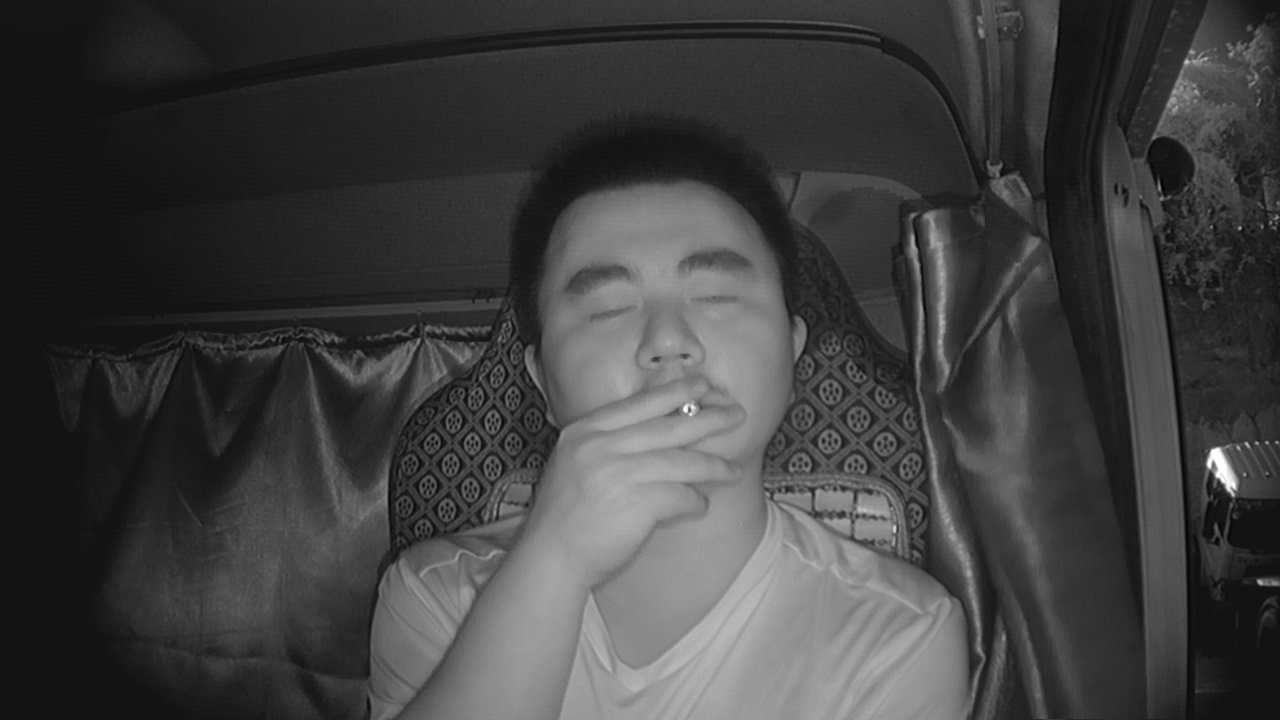hand: (544, 372, 758, 538)
